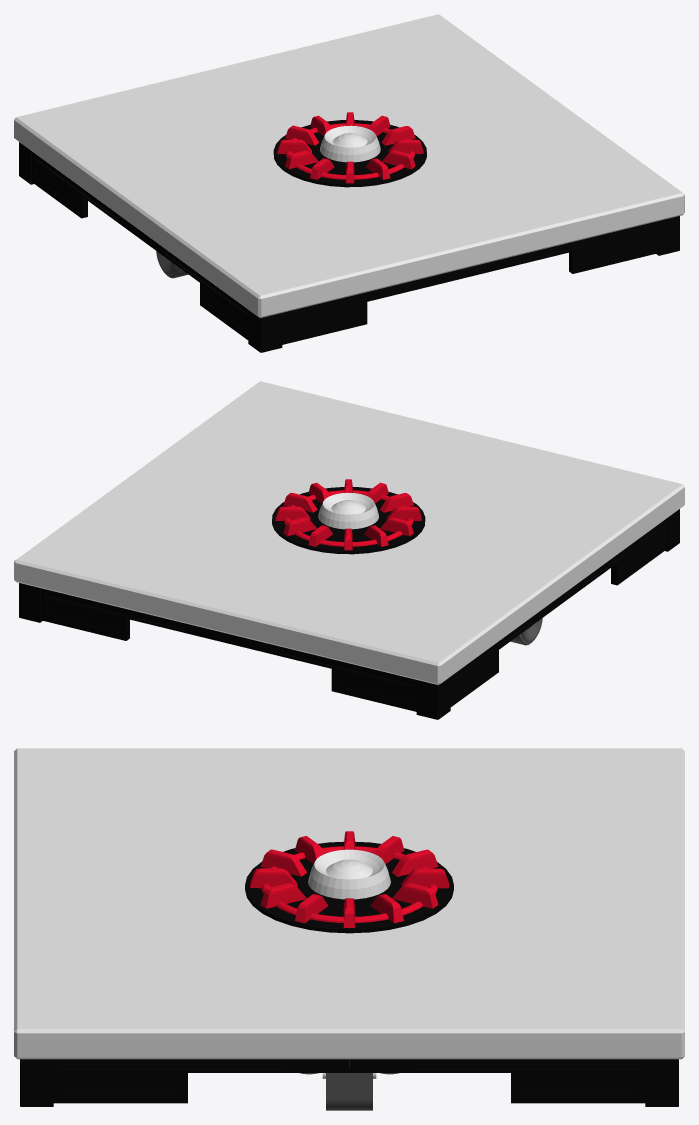
Rendered from platform.glb.
3 renders of one model, top to bottom at view 1: azimuth 30°, elevation 25°; view 2: azimuth 150°, elevation 25°; view 3: azimuth 270°, elevation 25°, orthographic. The views are drawn at different scales.
Visible parts, largest first — view 1: Cube.223, Circle, Sphere, Torus; view 2: Cube.223, Circle, Sphere, Torus; view 3: Cube.223, Circle, Sphere, Torus, Cube.011, Cube.001, Cube.005, Cube.007, Cube, Cube.006, Cube.002, Cube.004.
Boxes of the visible parts, <box> form: Cube.223: <box>14,14,684,352</box>; Circle: <box>273,120,426,187</box>; Sphere: <box>320,125,380,162</box>; Torus: <box>285,123,414,179</box>; Cube.223: <box>14,381,684,719</box>; Circle: <box>272,487,425,554</box>; Sphere: <box>318,492,378,529</box>; Torus: <box>284,490,413,546</box>; Cube.223: <box>14,748,684,1110</box>; Circle: <box>245,841,453,933</box>; Sphere: <box>308,849,390,899</box>; Torus: <box>261,846,437,922</box>; Cube.011: <box>392,849,438,876</box>; Cube.001: <box>392,883,438,908</box>; Cube.005: <box>260,883,306,908</box>; Cube.007: <box>260,849,306,876</box>; Cube: <box>401,868,448,888</box>; Cube.006: <box>250,868,297,888</box>; Cube.002: <box>371,894,403,923</box>; Cube.004: <box>295,894,327,923</box>.
Size of the model in its own units: 1.99 by 0.4356 by 1.99.
